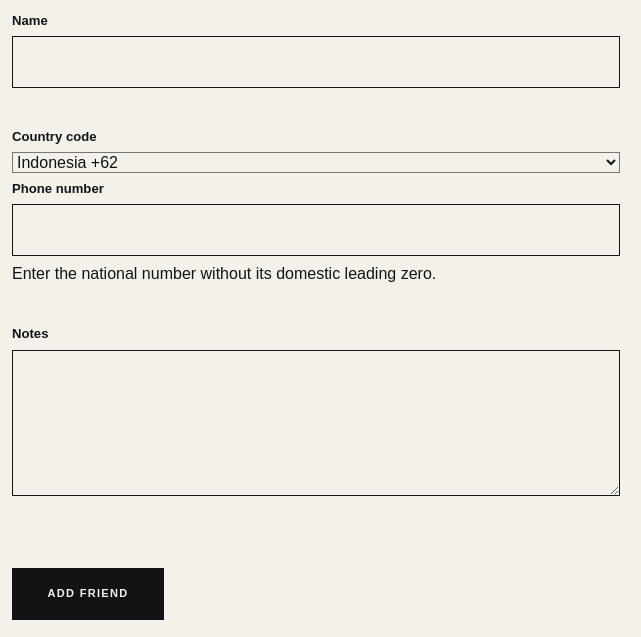
it: FriendForm › preserves entered values after a validation failure and exposes the field error
Type "Entered name" into the field labelled "Name" at (316, 62), box [12,36,620,88]
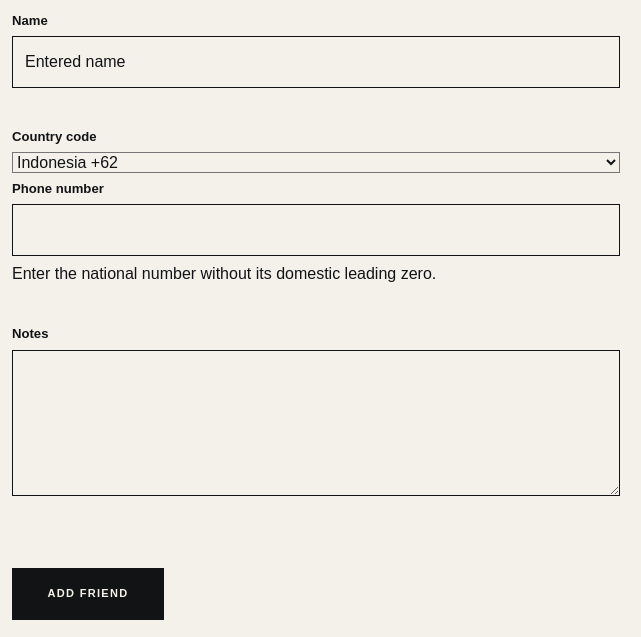
Click the button "Add friend" at (88, 594), box [12,568,164,620]
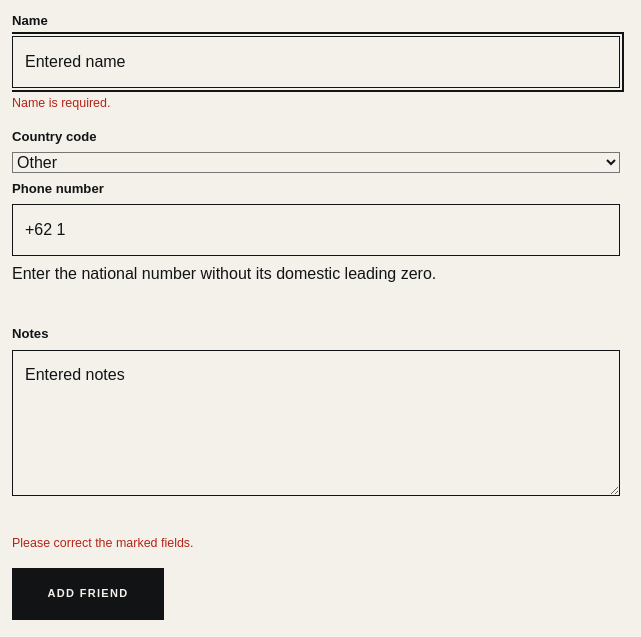
Now the text with id "friend-name-error" reads "Name is required.", box [12,96,110,110]
